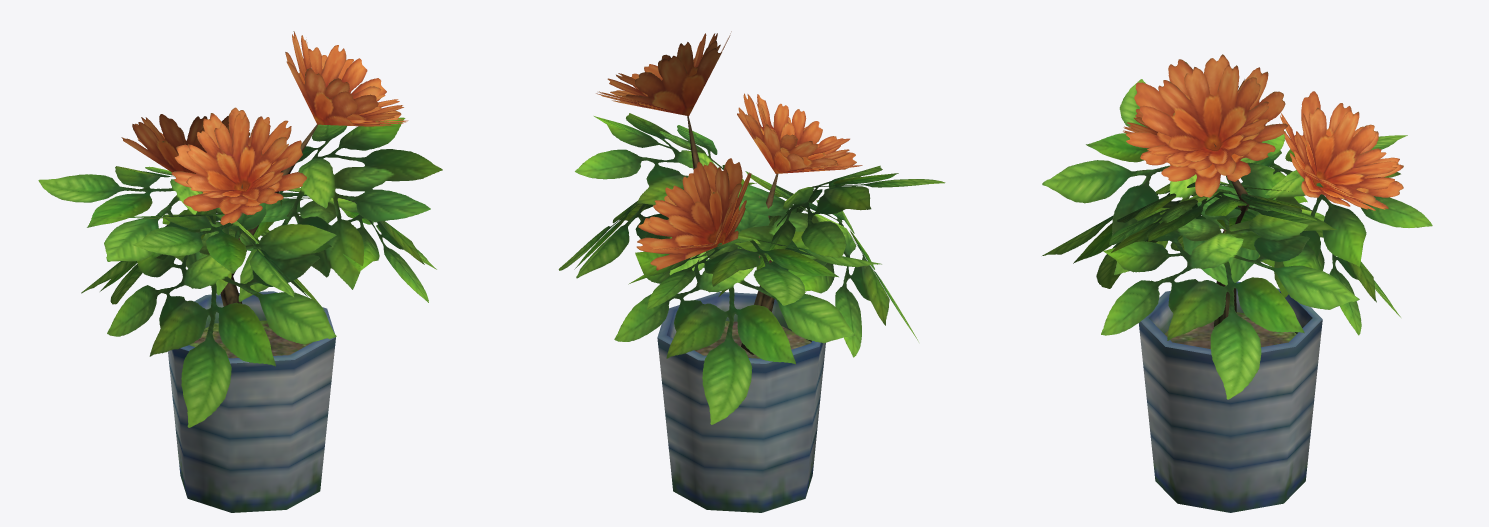
Rendered from wm_灌木盆栽07.fbx.
The picture shows the model from 3 angles, left to right: view 1: azimuth 30°, elevation 25°; view 2: azimuth 150°, elevation 25°; view 3: azimuth 270°, elevation 25°; orthographic projection. The views are drawn at different scales.
Visible parts, largest first — view 1: wm_灌木盆栽07; view 2: wm_灌木盆栽07; view 3: wm_灌木盆栽07.
Boxes of the visible parts, x1,y1,x2,y2 form: wm_灌木盆栽07: (38, 31, 442, 512); wm_灌木盆栽07: (558, 31, 945, 512); wm_灌木盆栽07: (1042, 54, 1432, 512).
Size of the model in its own units: 174 by 181 by 166.
